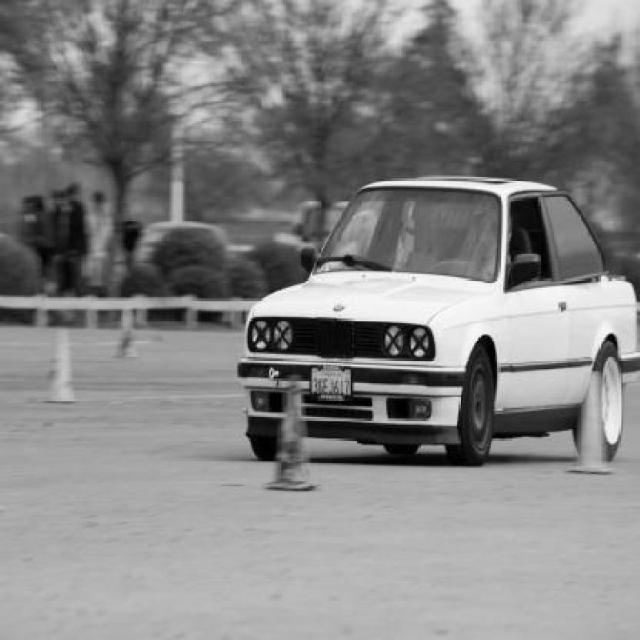car: (232, 164, 640, 482)
license-plate: (310, 368, 352, 395)
